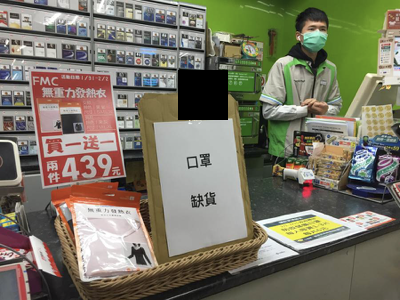with_mask: (303, 24, 328, 53)
